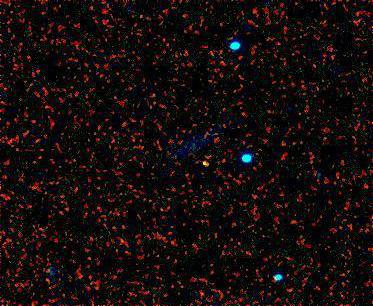star: (191, 146, 221, 176)
